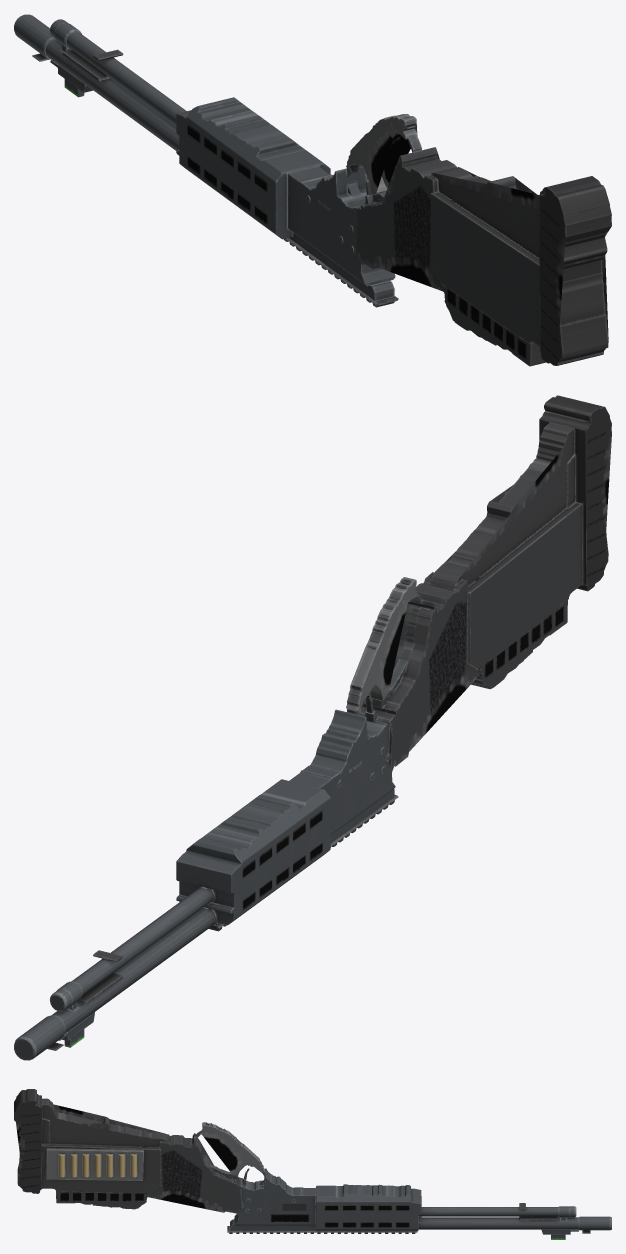
The model's file is AT_Marlin336.fbx.
The picture shows the model from 3 angles, top to bottom: view 1: azimuth 30°, elevation 25°; view 2: azimuth 150°, elevation 25°; view 3: azimuth 270°, elevation 25°; orthographic projection. The views are drawn at different scales.
Visible parts, largest first — view 1: AT_Marlin336_export; view 2: AT_Marlin336_export; view 3: AT_Marlin336_export.
Part boxes in pixels (<box>): AT_Marlin336_export: <box>14,14,611,366</box>; AT_Marlin336_export: <box>14,395,611,1060</box>; AT_Marlin336_export: <box>14,1089,611,1239</box>.
Size of the model in its own units: 0.0333 by 0.5452 by 0.1451.
